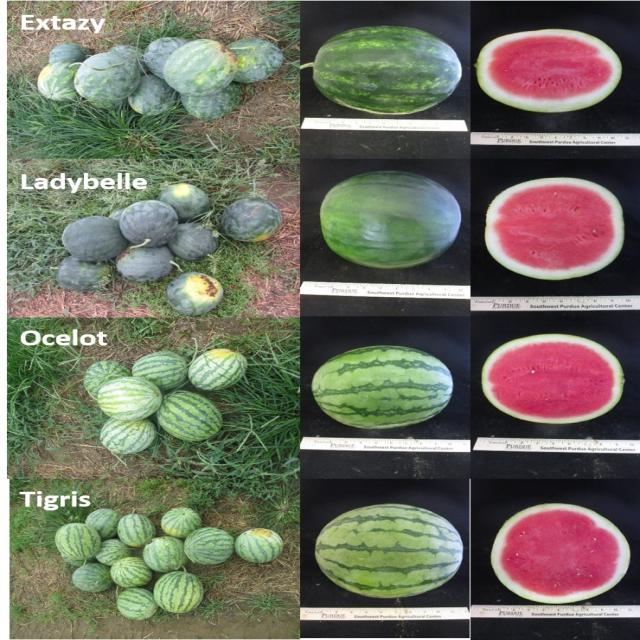watermelon: (492, 502, 630, 608), (320, 172, 462, 271), (485, 183, 628, 278), (316, 506, 466, 596), (482, 334, 625, 424), (312, 344, 458, 430), (476, 30, 622, 113), (314, 32, 460, 114), (167, 38, 234, 94), (164, 392, 226, 446), (188, 348, 254, 389), (102, 382, 168, 423), (157, 573, 210, 614), (181, 530, 241, 564), (56, 527, 103, 561)
